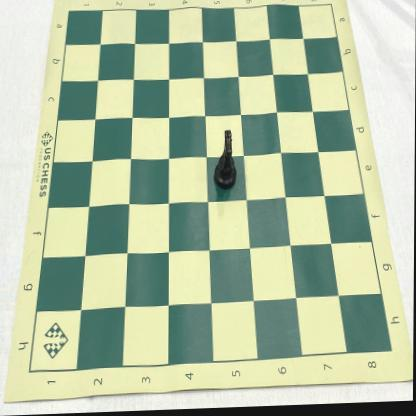black-knight: (214, 131, 237, 193)
